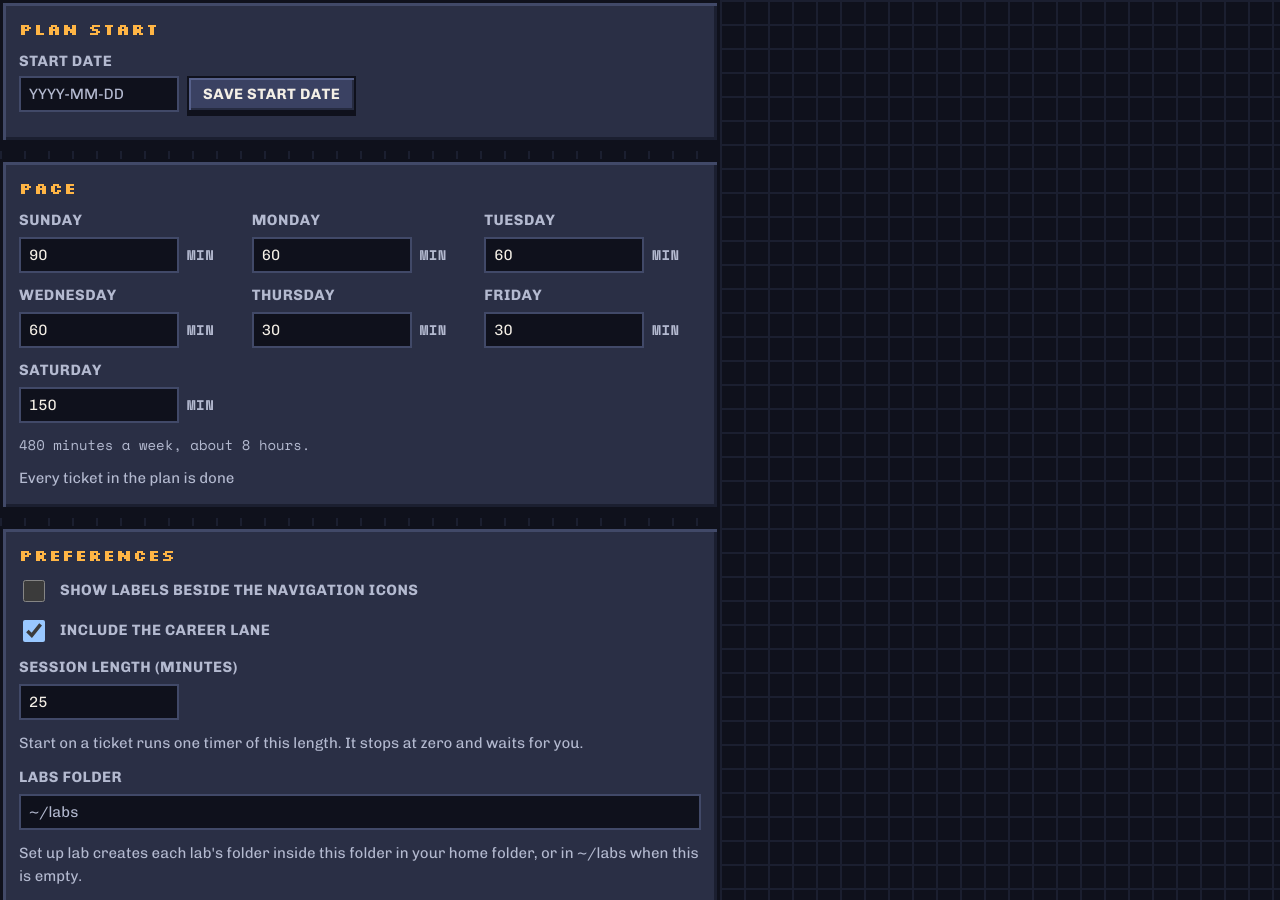
Settings: pace › refuses a bad value with one settings-pace-error sentence inside settings-pace and keeps the stored budgets (SET-08)
Expected: the element with test id "settings-pace" is shown, [0, 159, 720, 510]
Replace the text in the field with test id "settings-budget-2" with "601" at (564, 255), box [484, 237, 644, 273]
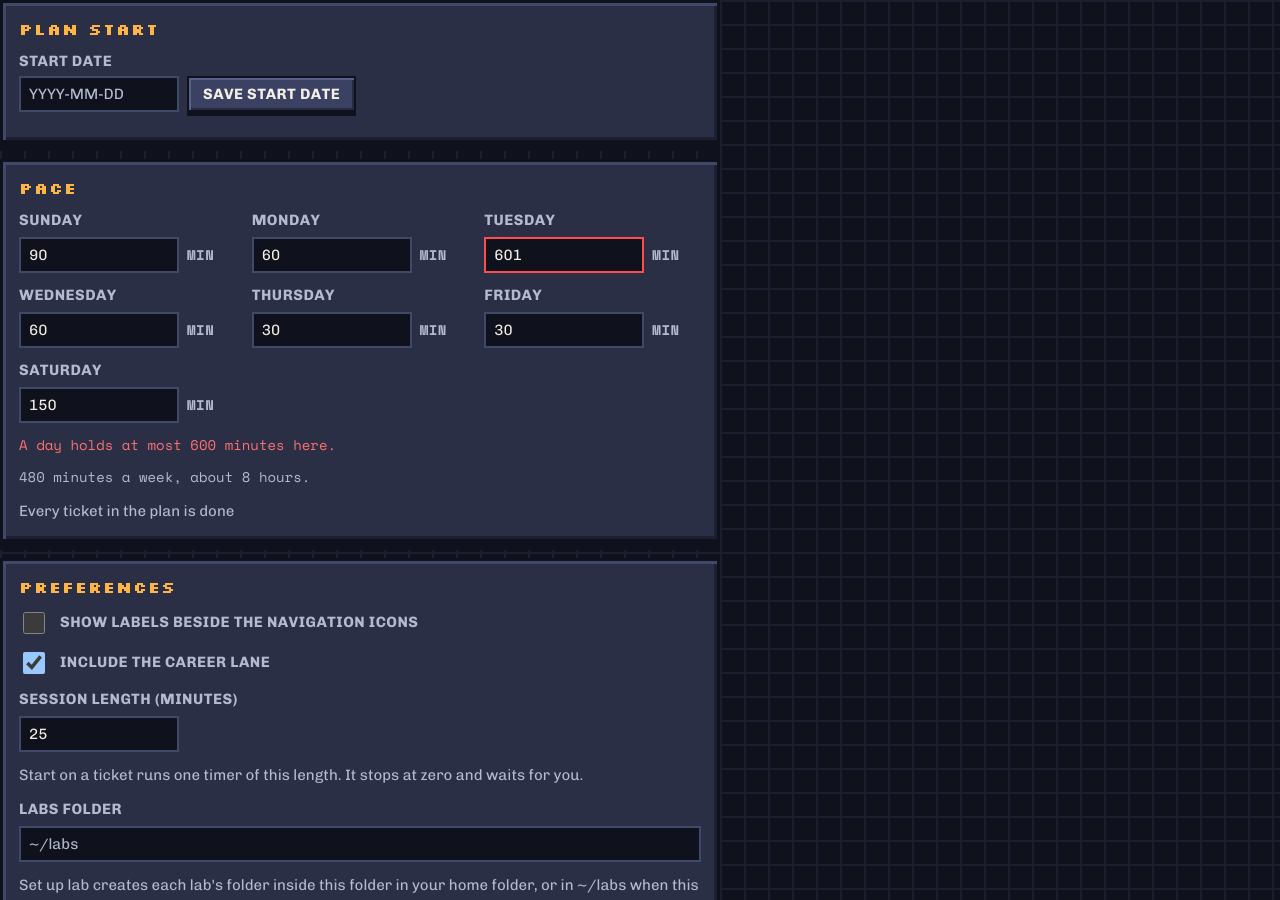
Expected: the message with test id "settings-pace-error" reads "A day holds at most 600 minutes here.", [19, 434, 336, 455]
Replace the text in the field with test id "settings-budget-2" with "-5" at (564, 255), box [484, 237, 644, 273]
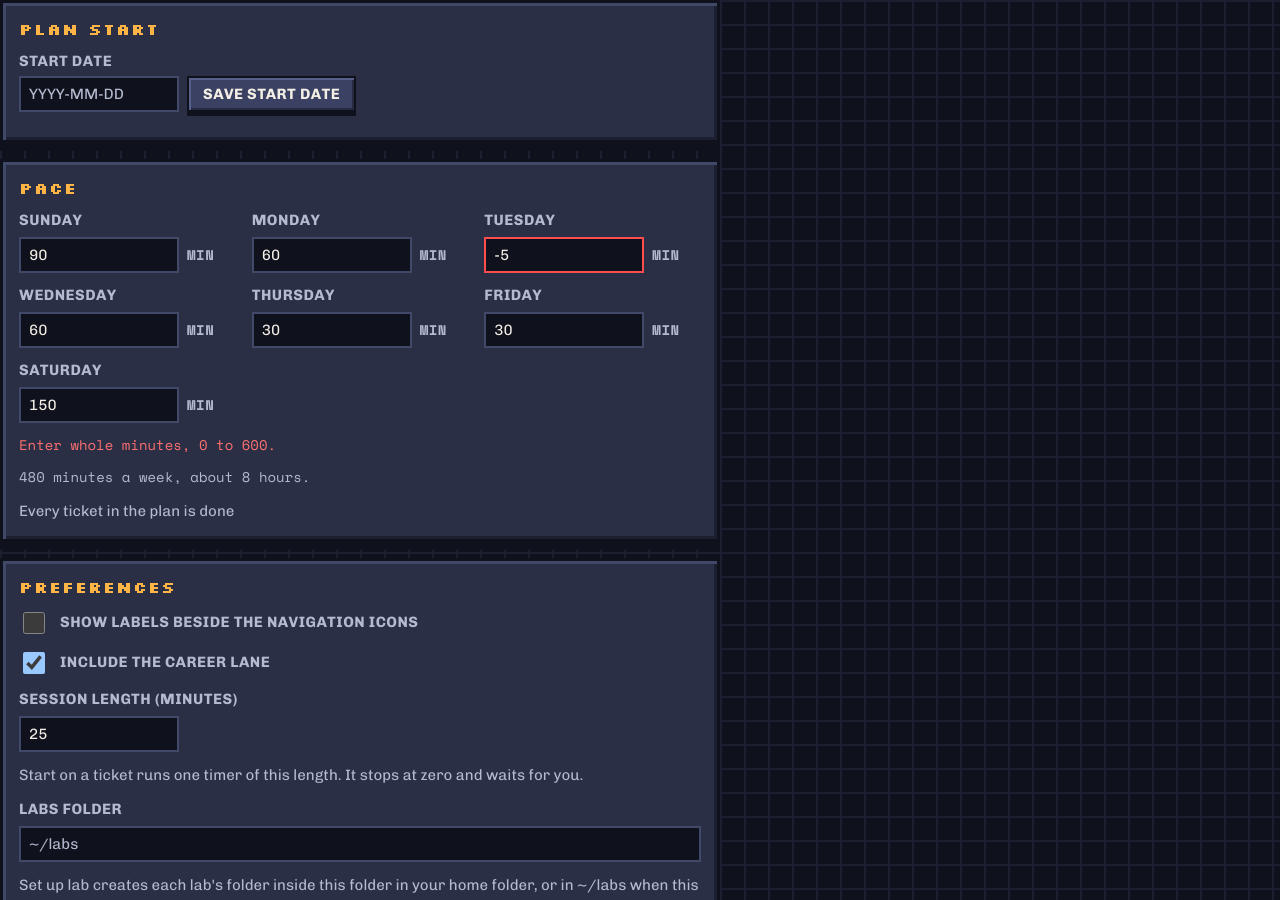
Expected: the message with test id "settings-pace-error" reads "Enter whole minutes, 0 to 600.", [19, 434, 276, 455]
Replace the text in the field with test id "settings-budget-2" with "abc" at (564, 255), box [484, 237, 644, 273]
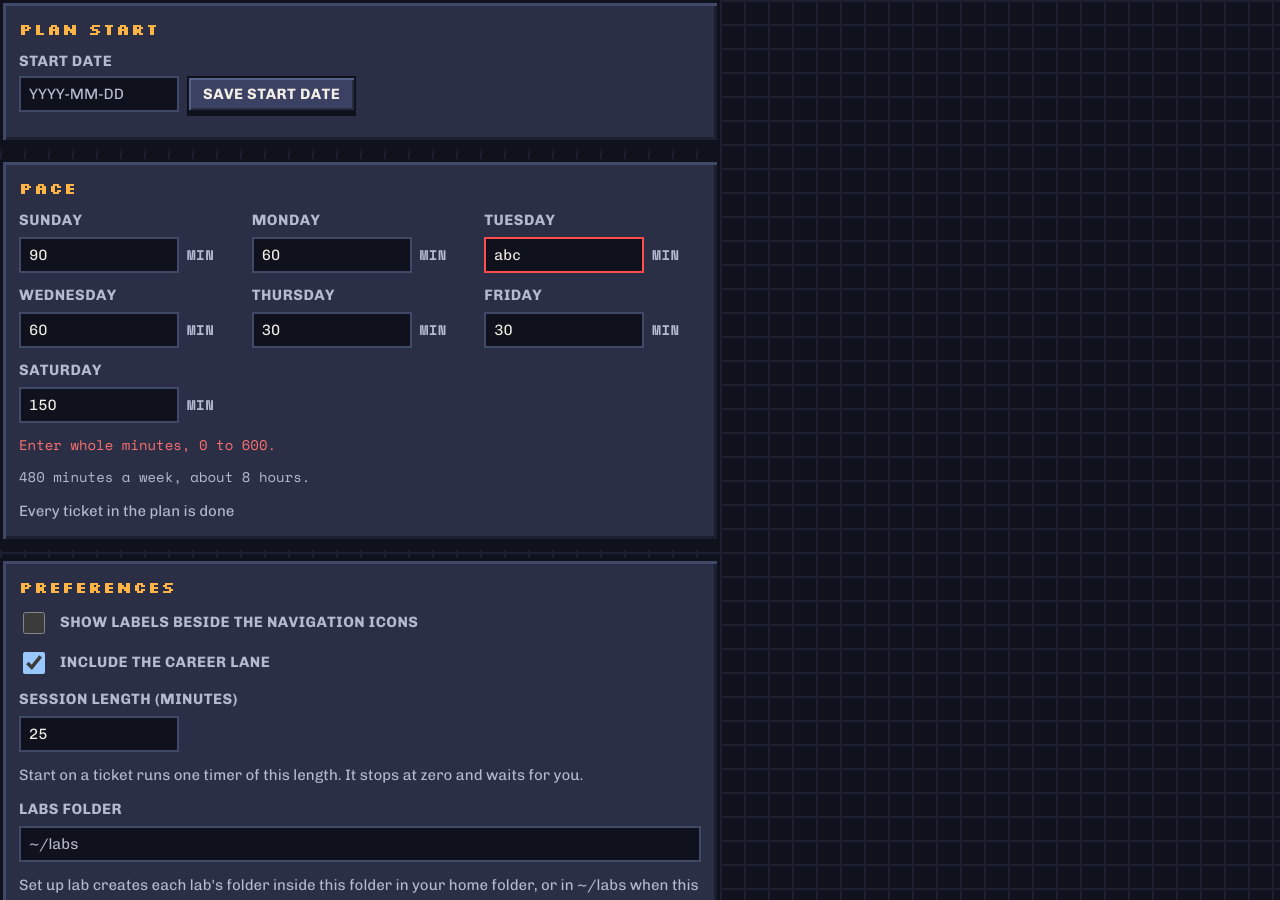
Expected: the message with test id "settings-pace-error" reads "Enter whole minutes, 0 to 600.", [19, 434, 276, 455]
Replace the text in the field with test id "settings-budget-2" with "1.5" at (564, 255), box [484, 237, 644, 273]
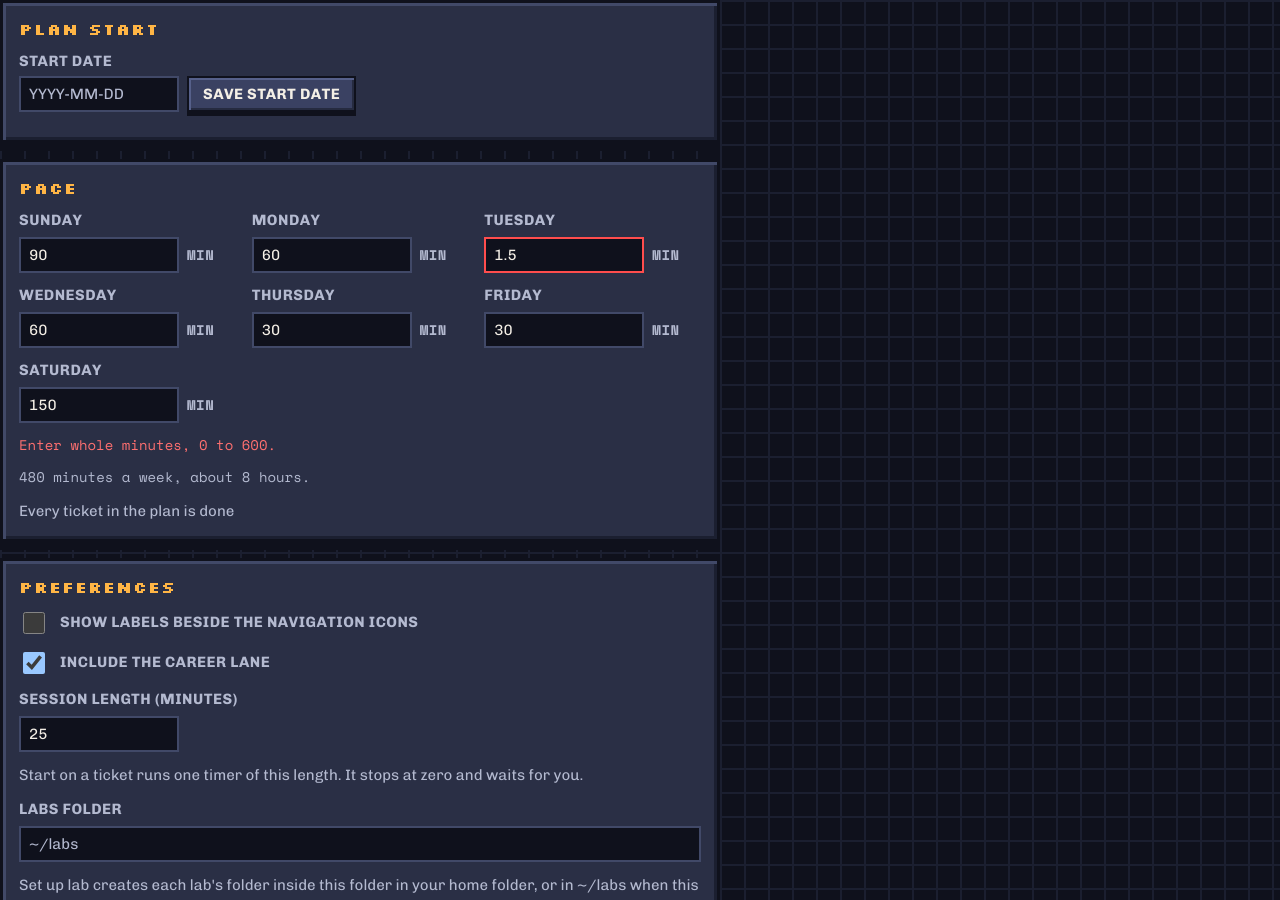
Expected: the message with test id "settings-pace-error" reads "Enter whole minutes, 0 to 600.", [19, 434, 276, 455]
Clear the field with test id "settings-budget-2" at (564, 255), box [484, 237, 644, 273]
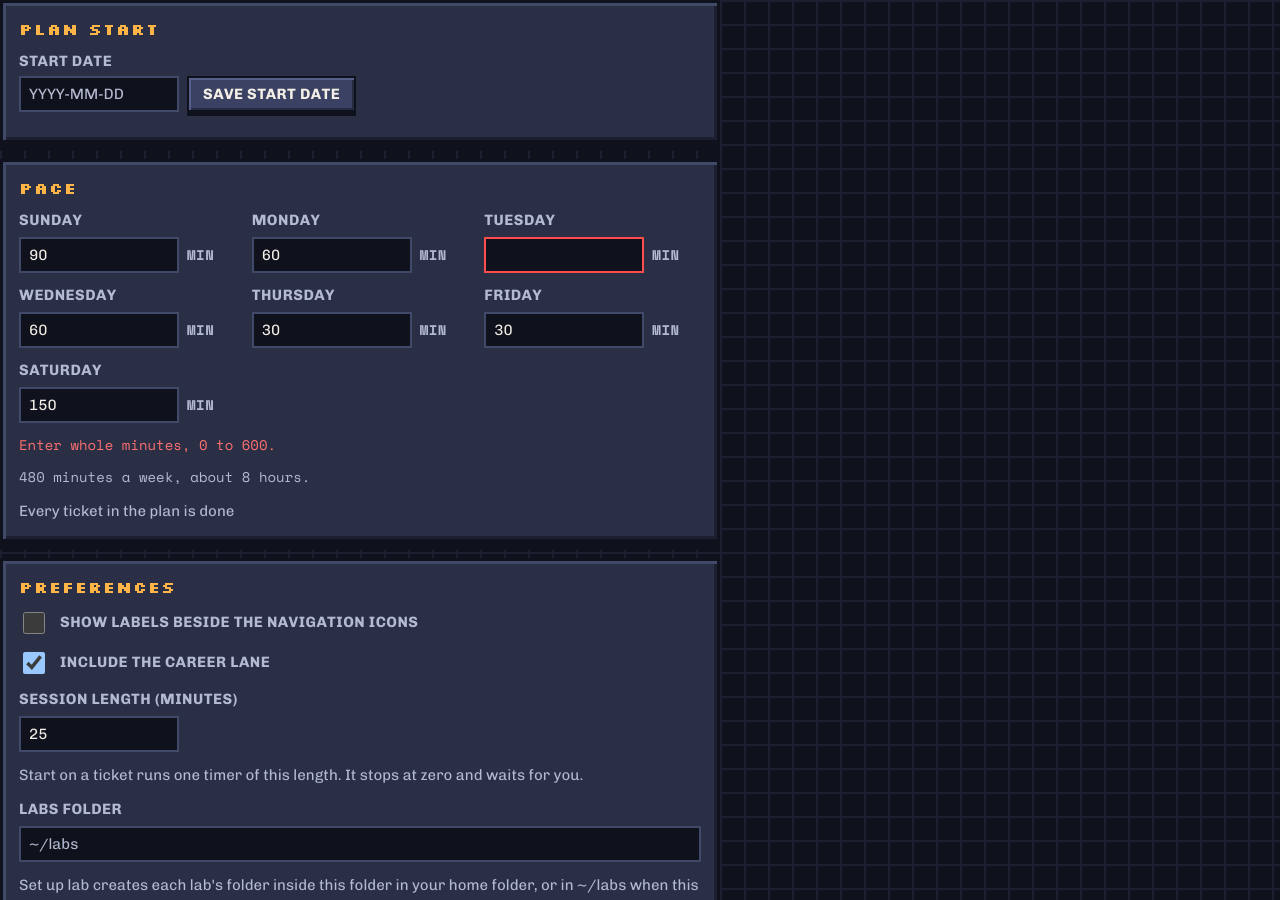
Expected: the message with test id "settings-pace-error" reads "Enter whole minutes, 0 to 600.", [19, 434, 276, 455]
Type "45" into the field with test id "settings-budget-2".
click(564, 255); type("45")  # box [484, 237, 644, 273]
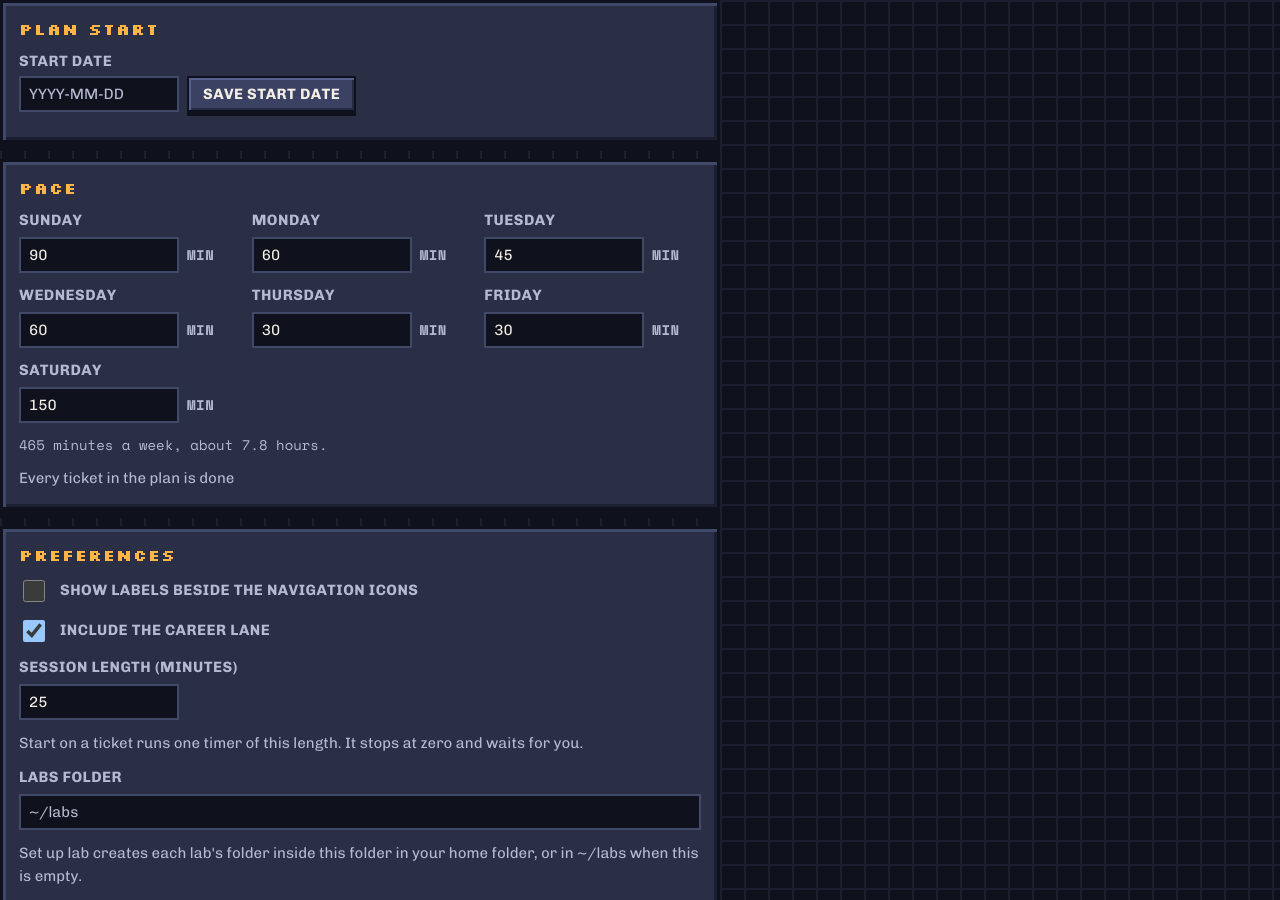
Expected: the message with test id "settings-pace-error" is gone
